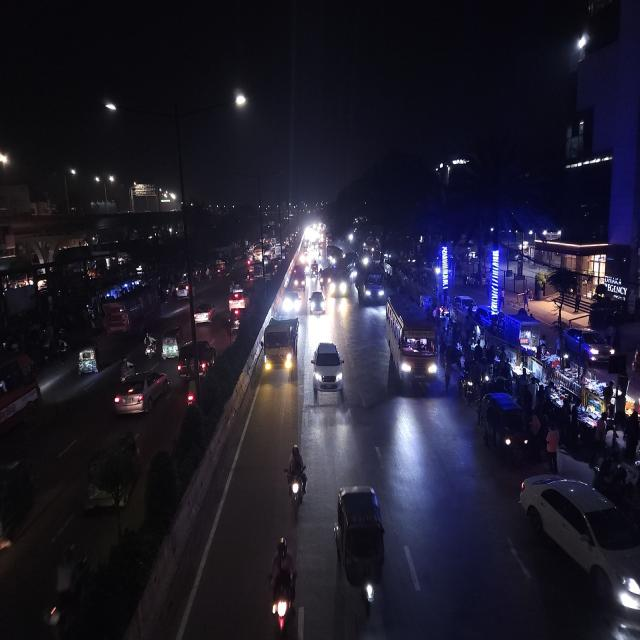bus: (383, 292, 442, 396), (0, 348, 43, 445), (101, 280, 161, 337), (572, 0, 623, 62), (355, 260, 385, 308), (326, 251, 356, 299)
car: (518, 469, 640, 634), (112, 366, 170, 421), (310, 338, 346, 401), (178, 338, 217, 386), (192, 300, 216, 326), (307, 288, 327, 318), (283, 288, 302, 318), (175, 282, 191, 301)
cng: (333, 479, 389, 625), (477, 388, 529, 468), (74, 341, 101, 379), (160, 322, 180, 361)
motorcycle: (266, 534, 298, 640), (284, 439, 308, 516), (458, 359, 478, 405), (185, 373, 198, 410)
pedestrian: (542, 427, 562, 472)
truck: (261, 313, 301, 380), (290, 262, 306, 290)
